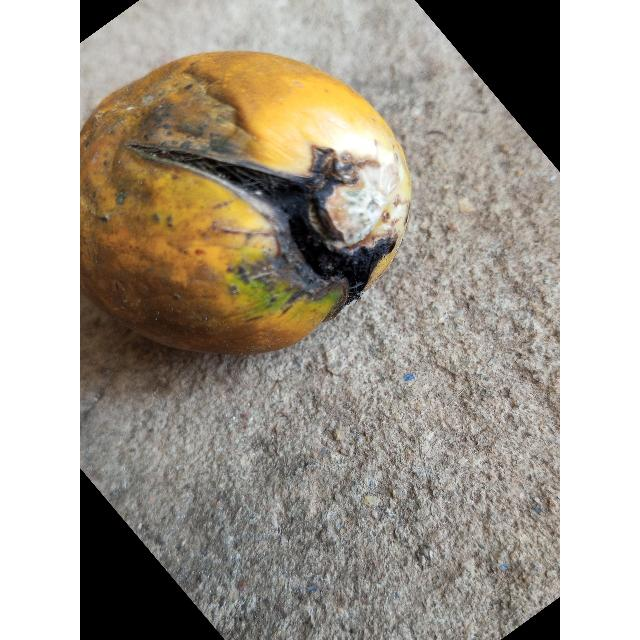damaged: (80, 51, 413, 357)
